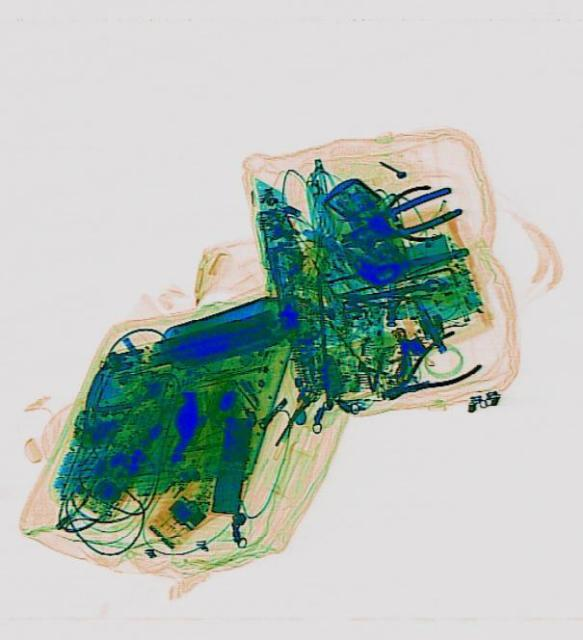Pliers: (370, 324, 481, 420), (334, 182, 462, 254), (346, 180, 445, 262)
Wrench: (342, 276, 439, 304)
